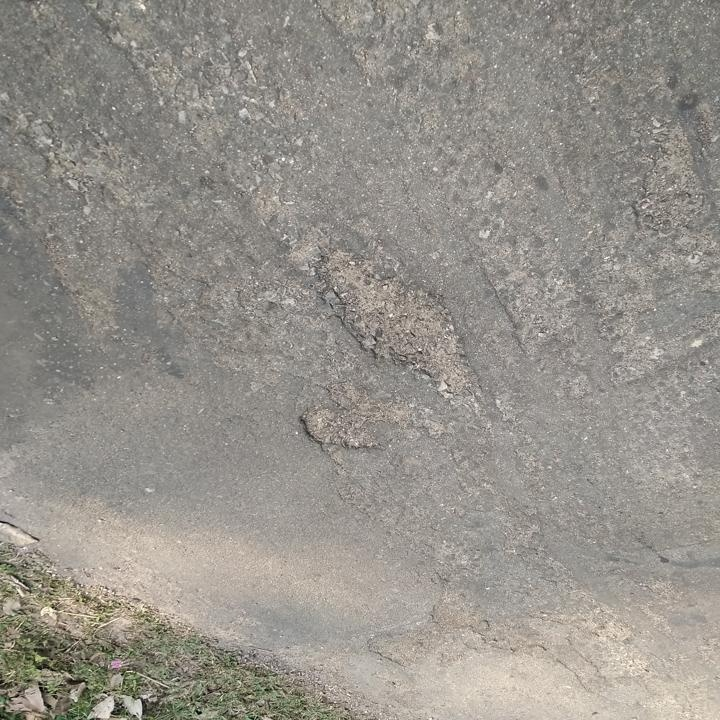pothole: (318, 250, 484, 403), (628, 124, 710, 232), (294, 400, 383, 455)
